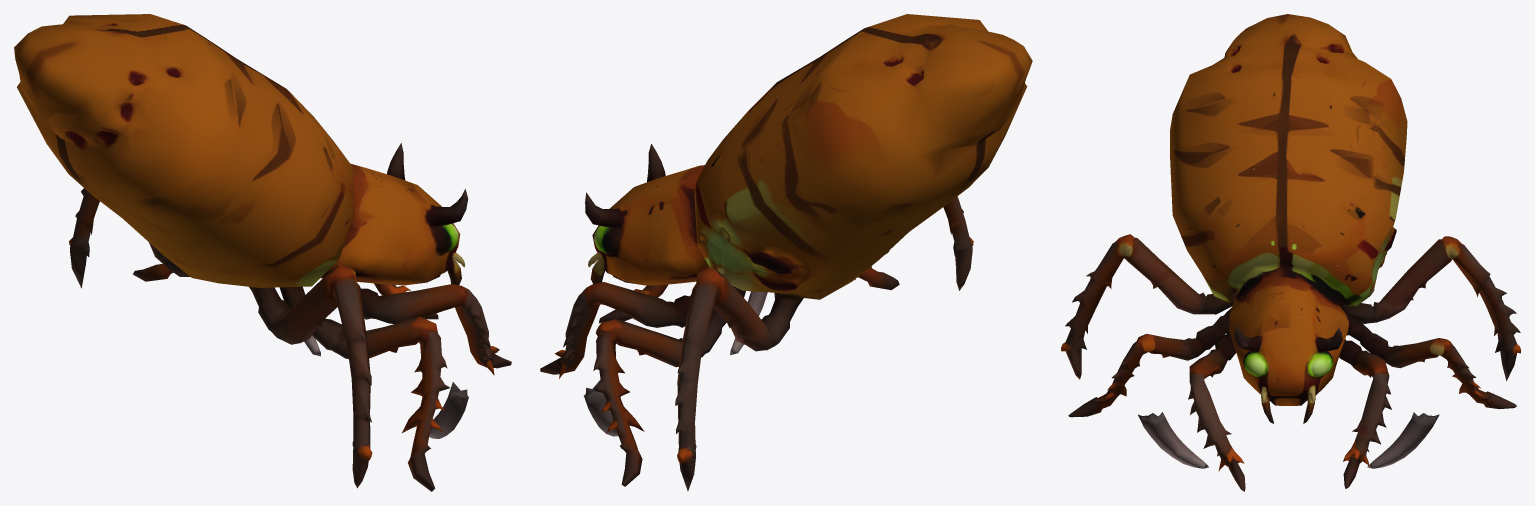
Rendered from swarmer.glb.
3 renders of one model, left to right at view 1: azimuth 30°, elevation 25°; view 2: azimuth 150°, elevation 25°; view 3: azimuth 270°, elevation 25°, orthographic. The views are drawn at different scales.
Visible parts, largest first — view 1: tripo_node_587a7ae5-8dae-4bb6-a640-833a46e96bf2; view 2: tripo_node_587a7ae5-8dae-4bb6-a640-833a46e96bf2; view 3: tripo_node_587a7ae5-8dae-4bb6-a640-833a46e96bf2.
Boxes of the visible parts, x1,y1,x2,y2 form: tripo_node_587a7ae5-8dae-4bb6-a640-833a46e96bf2: (14,14,511,491); tripo_node_587a7ae5-8dae-4bb6-a640-833a46e96bf2: (540,14,1032,491); tripo_node_587a7ae5-8dae-4bb6-a640-833a46e96bf2: (1061,14,1520,491).
Size of the model in its own units: 0.8848 by 0.7949 by 0.998.
1 material, 1 textured.
